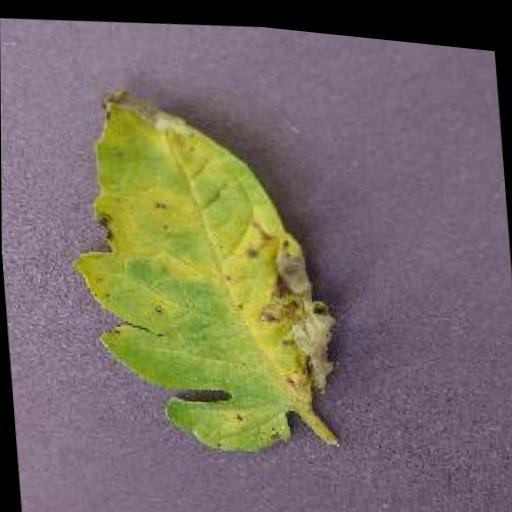Septoria: (53, 67, 343, 466)
